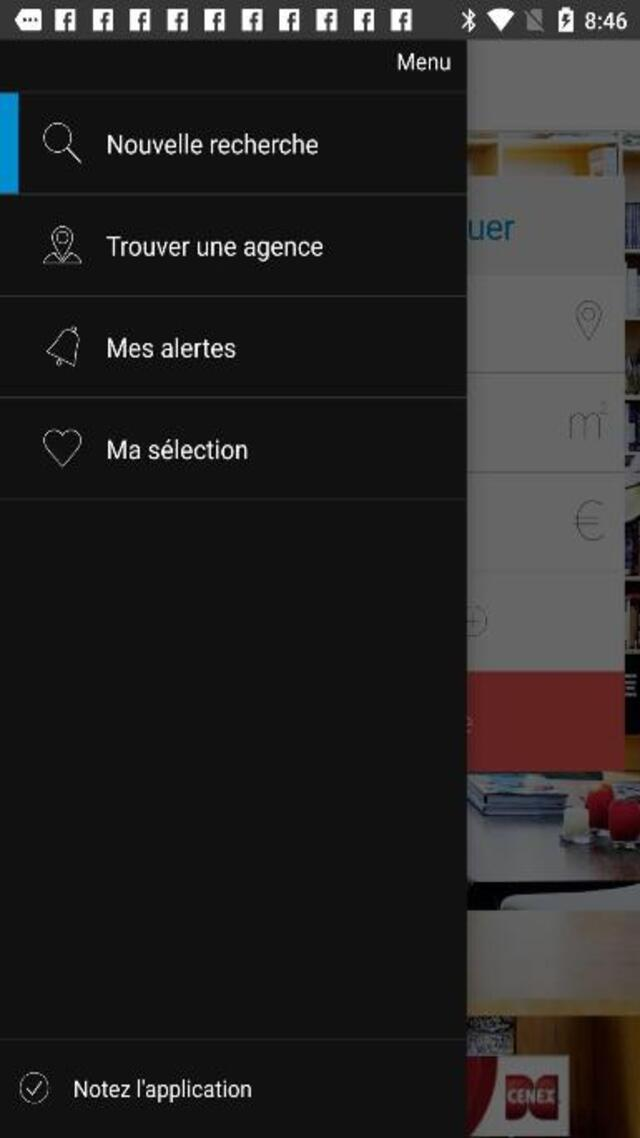CheckedTextView: (18, 1070, 251, 1102)
Icon: (44, 121, 82, 164), (42, 428, 80, 468), (44, 226, 82, 265), (46, 325, 80, 368)
Text: (105, 236, 324, 262), (108, 132, 318, 156), (74, 1078, 252, 1102), (108, 436, 248, 460), (106, 335, 236, 358), (398, 52, 450, 72)
